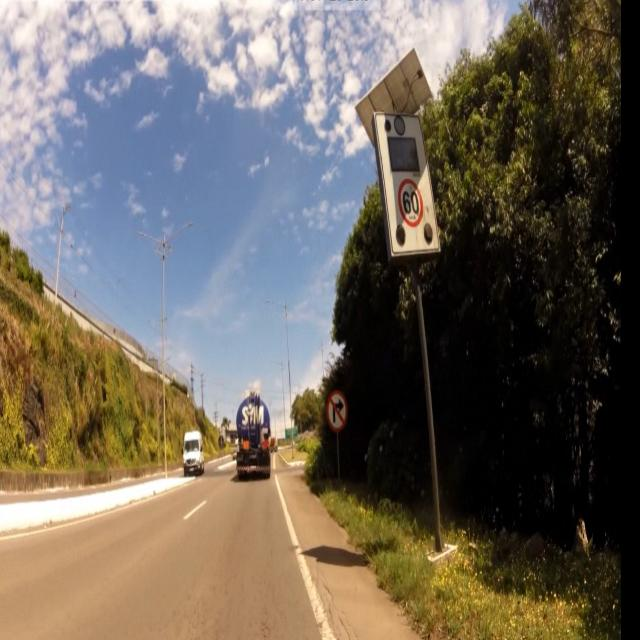R-19: (398, 178, 426, 226)
R-4b: (326, 392, 347, 433)
